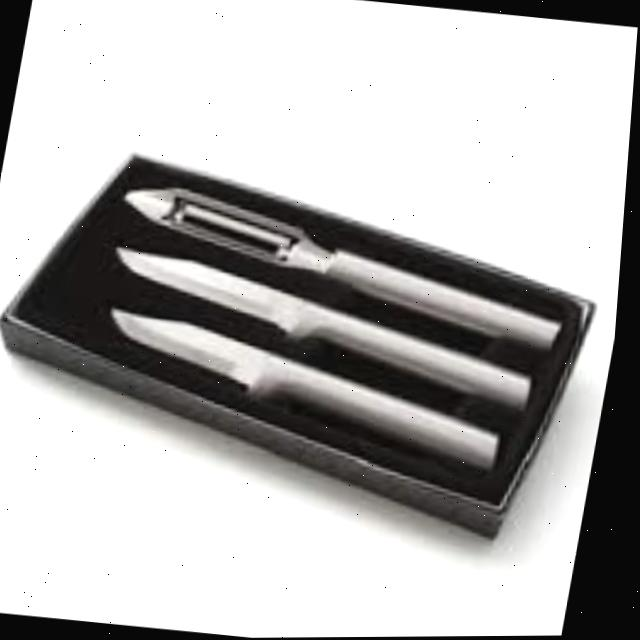Knife: (105, 175, 586, 353), (94, 238, 557, 415), (90, 300, 524, 475)
